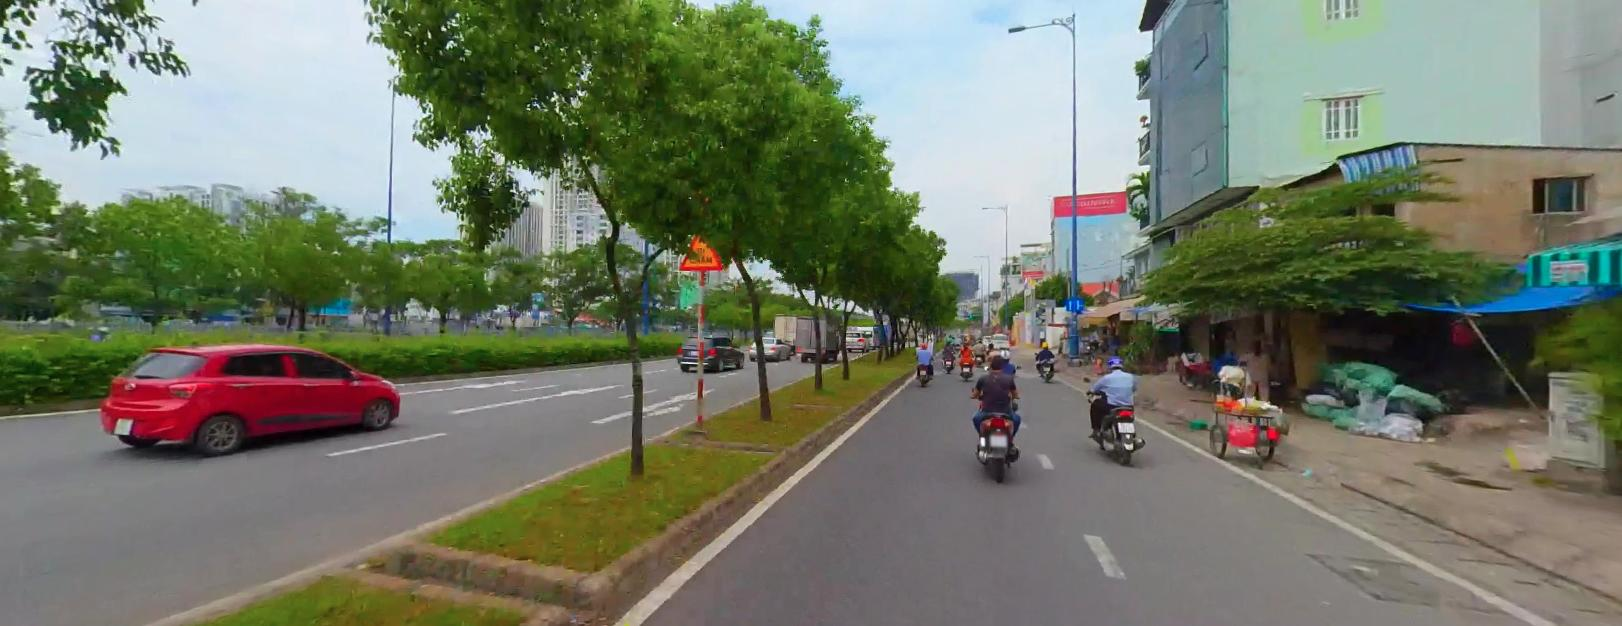Nguy hiem: (679, 227, 723, 270)
